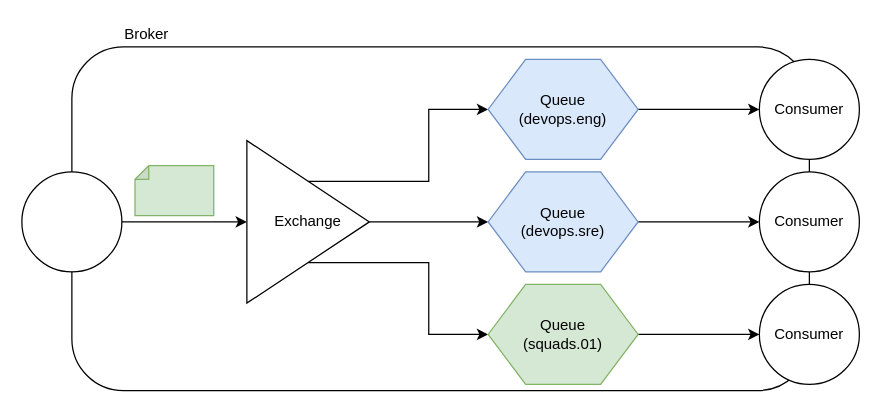
Image size: 881x413. Some labels were removed from this diagram. The centre of each missing label's shape, as x and y in pixels:
Message (squads.*): point (174, 190)
Producer: point (71, 221)
